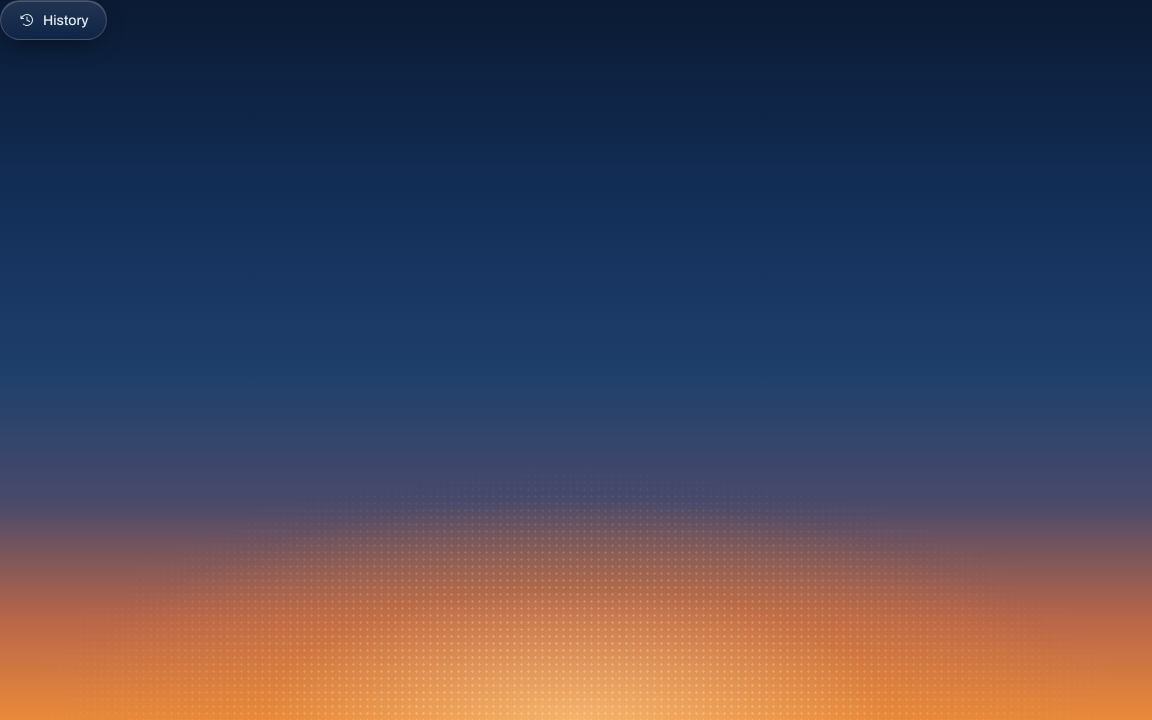
Test case: HistoryButton › refreshes on open and lists Now first, then the checkpoints newest first
Click the button "History". click: [54, 20]
box: [0,0,108,40]
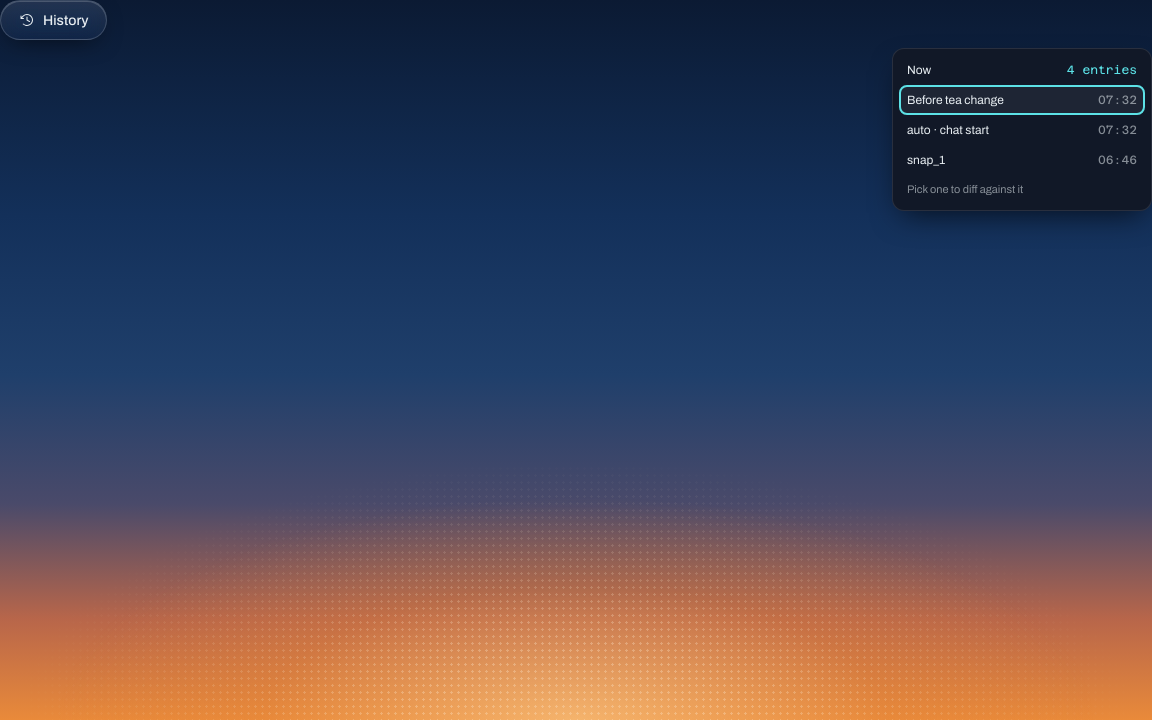
Result: the element with class "now" reads "Now 4 entries" at [907,63,1137,77]
